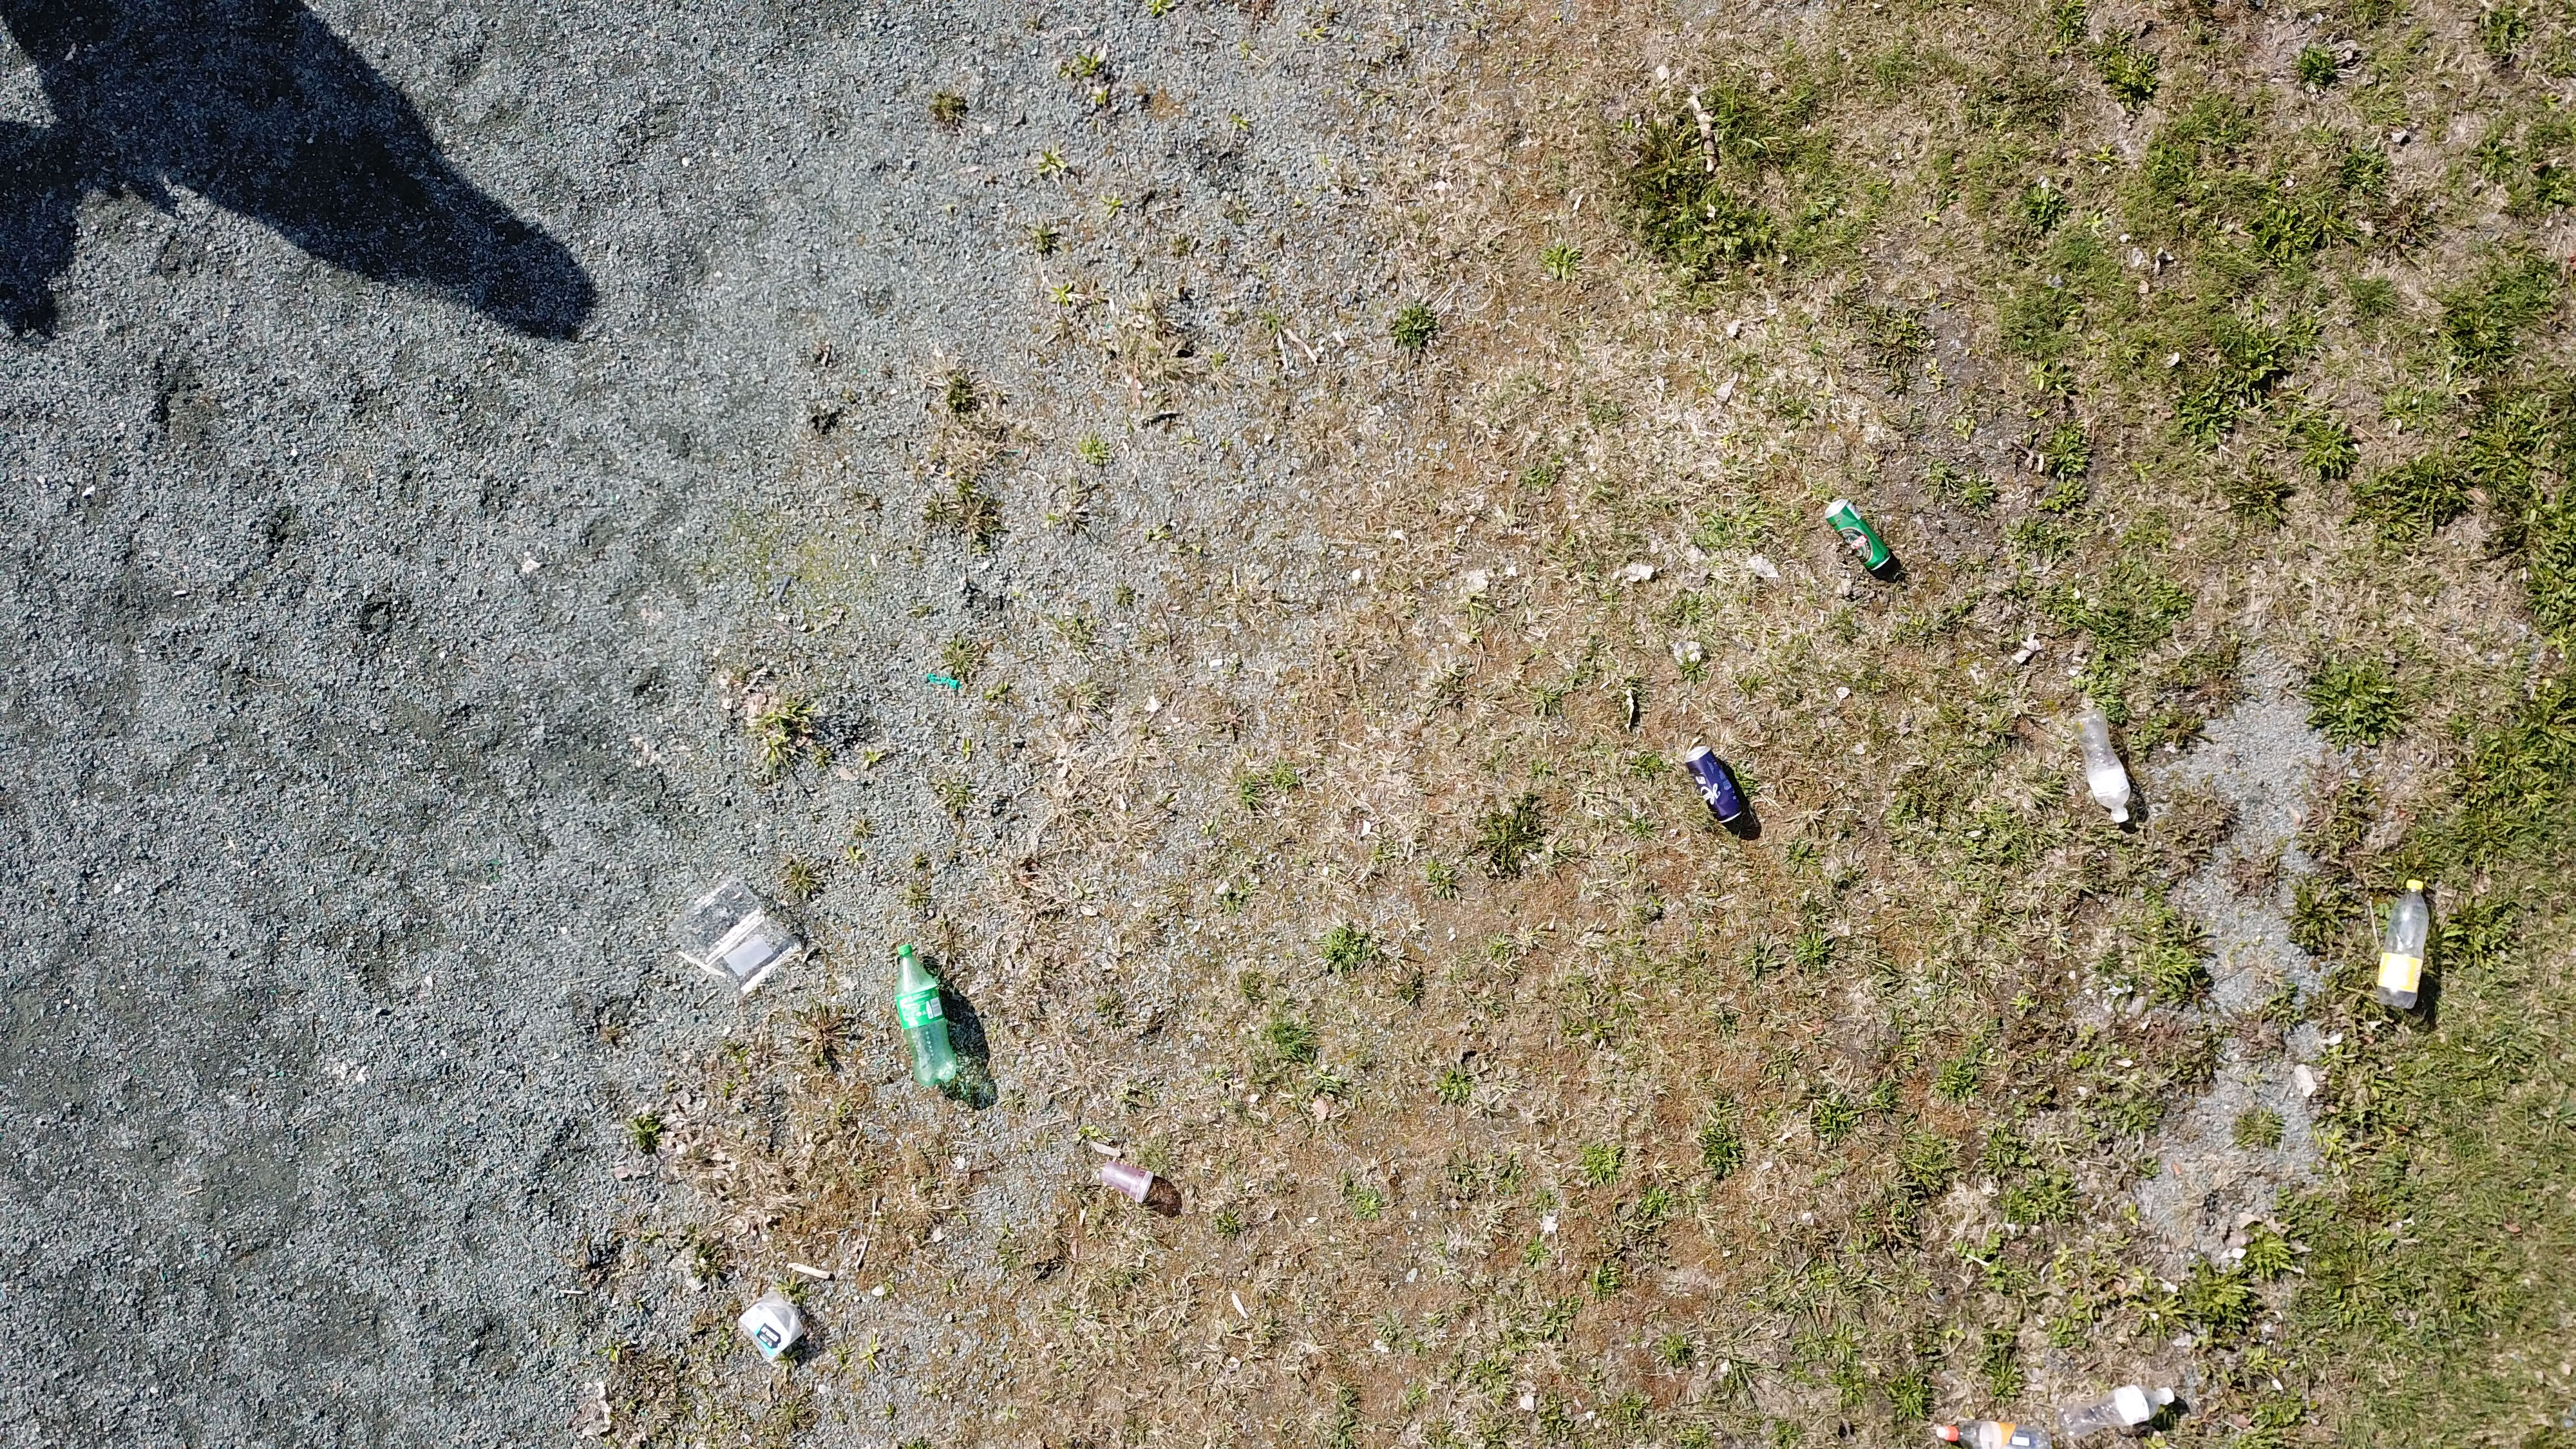Can: (1683, 743, 1748, 828), (1824, 497, 1893, 573)
Plastic: (672, 881, 805, 994), (740, 1292, 805, 1362), (1097, 1154, 1154, 1205), (929, 674, 964, 690)
PlasticBottle: (897, 939, 959, 1086), (2376, 879, 2431, 1008), (2072, 708, 2130, 826), (2058, 1385, 2176, 1438), (1932, 1419, 2059, 1449)
